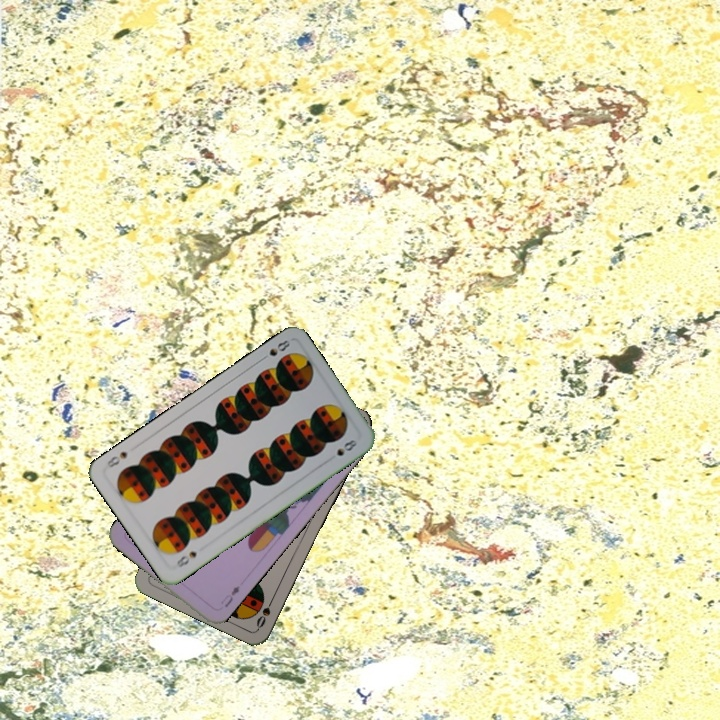EU: (216, 582, 242, 610)
S8: (256, 336, 293, 364), (172, 547, 200, 570)
SO: (252, 593, 277, 631)
